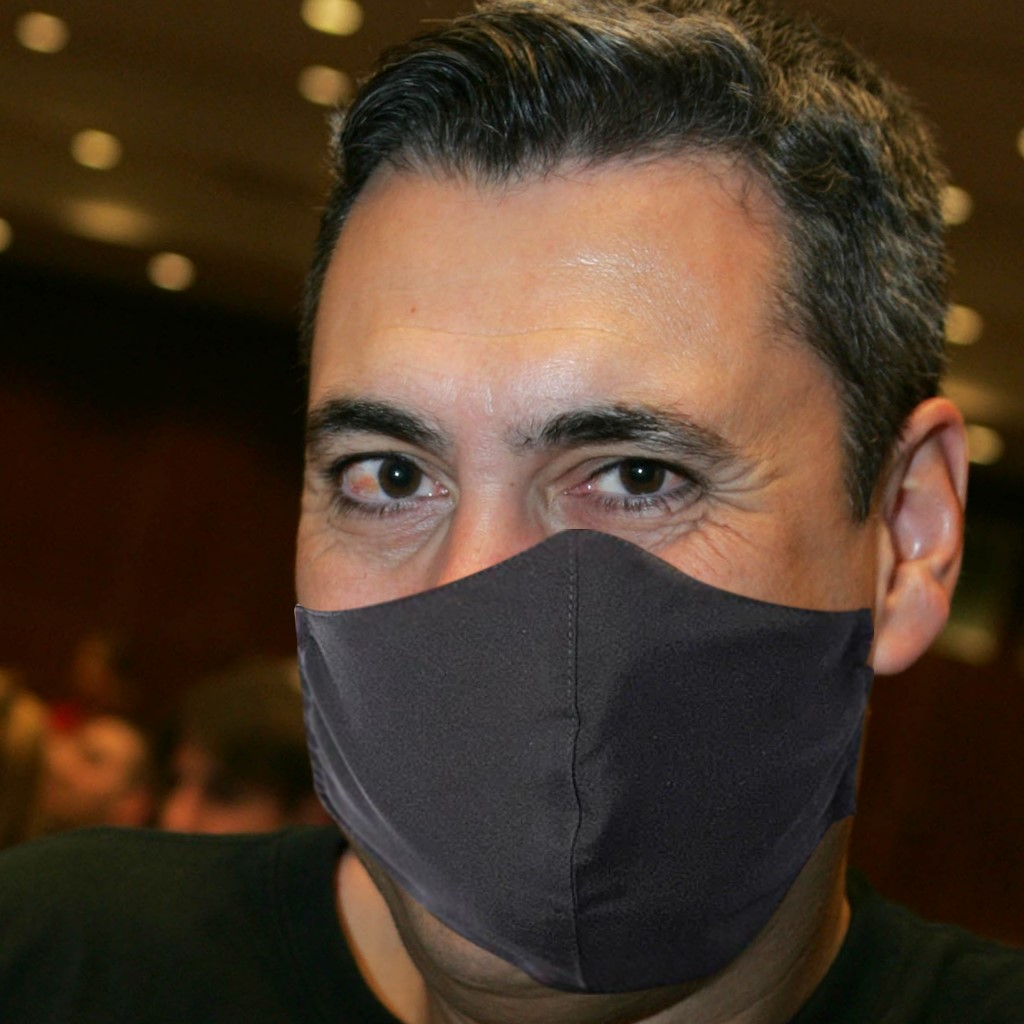con_mascara: (292, 100, 923, 957)
